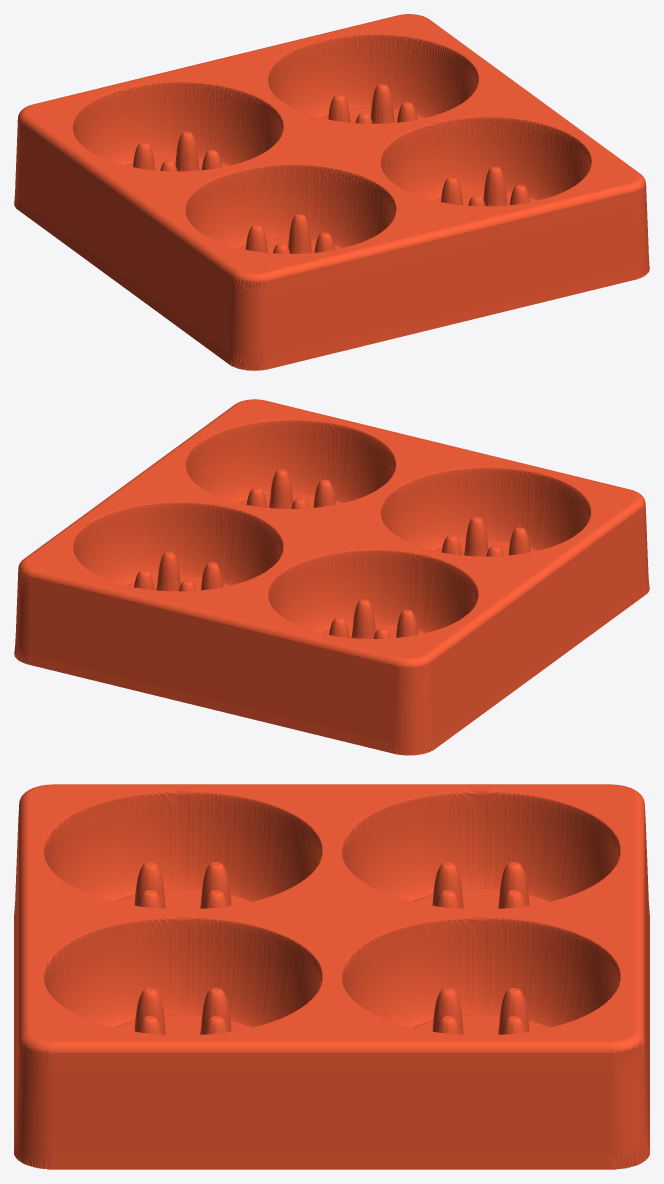
The model's file is mold.glb.
The picture shows the model from 3 angles, top to bottom: view 1: azimuth 30°, elevation 25°; view 2: azimuth 150°, elevation 25°; view 3: azimuth 270°, elevation 25°; orthographic projection. The views are drawn at different scales.
Parts seen in each view (by area): view 1: geometry_0; view 2: geometry_0; view 3: geometry_0.
Part boxes in pixels (bbox=[...]): geometry_0: bbox=[14, 14, 649, 370]; geometry_0: bbox=[14, 399, 649, 755]; geometry_0: bbox=[14, 784, 649, 1169].
Bounding box in the file's own units: 0.1466 × 0.031 × 0.1466.
